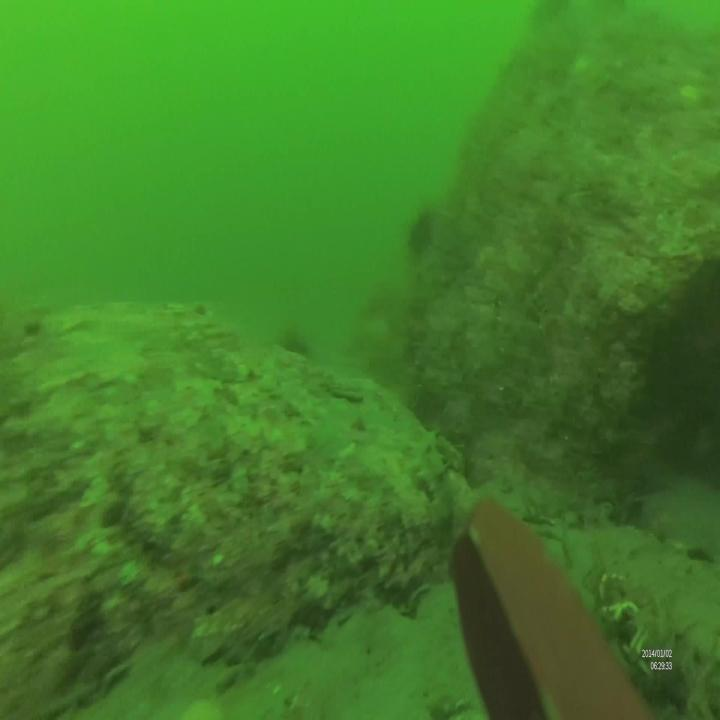echinus: (408, 207, 443, 260)
